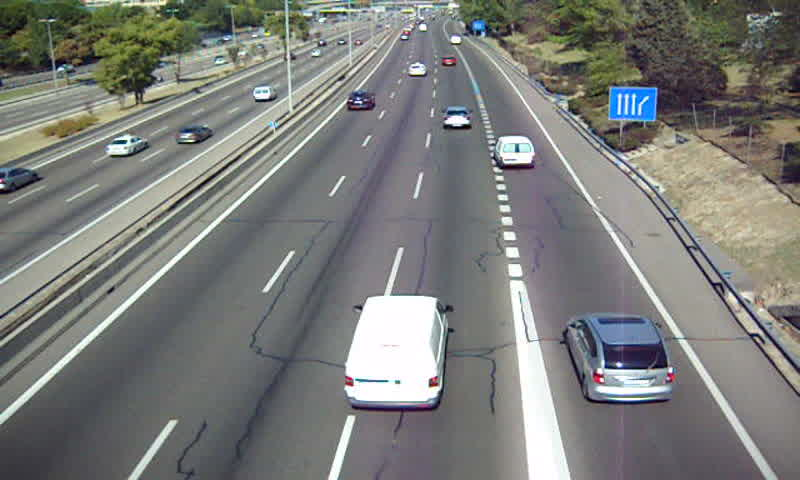car: (568, 314, 674, 403), (443, 105, 471, 130), (346, 90, 374, 111), (408, 61, 427, 78), (441, 55, 458, 68)
van: (345, 296, 446, 409), (496, 135, 537, 169)
